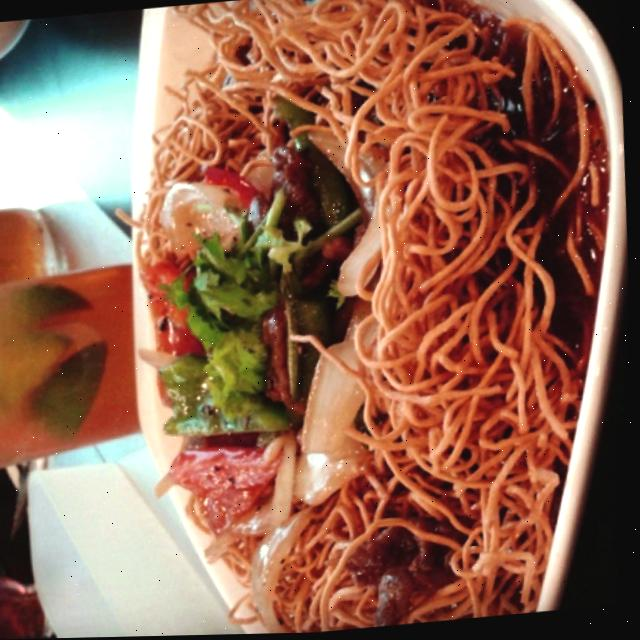面条主食: (111, 0, 616, 638)
